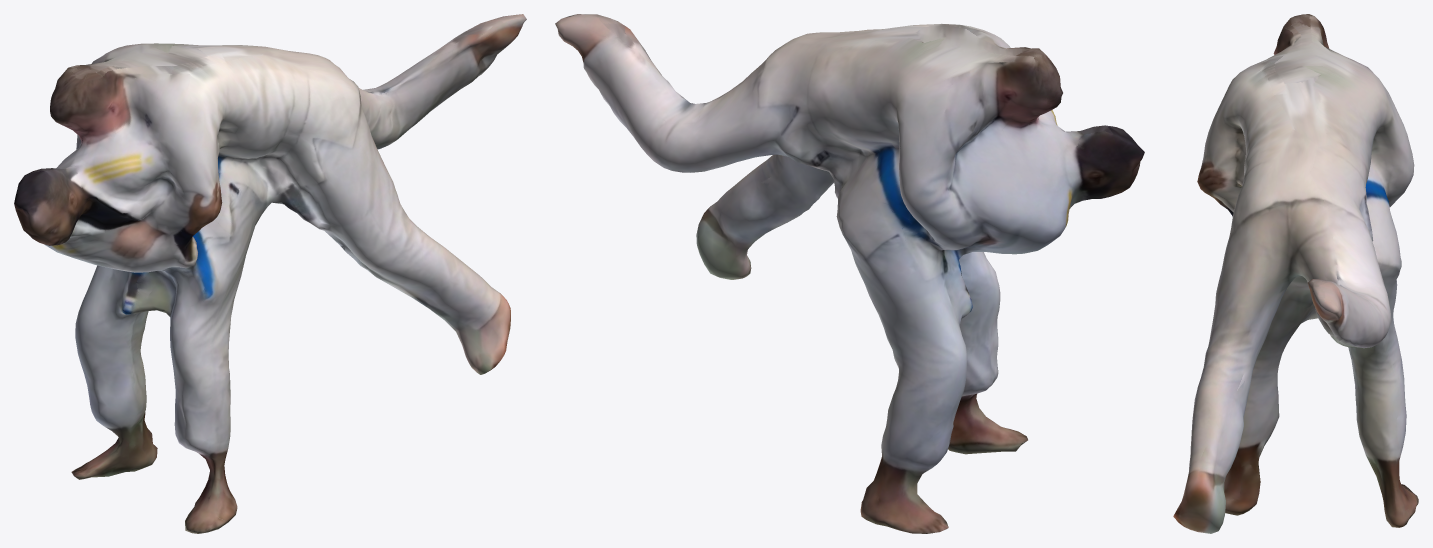
The model's file is hip-throw-4.glb.
3 renders of one model, left to right at view 1: azimuth 30°, elevation 25°; view 2: azimuth 150°, elevation 25°; view 3: azimuth 270°, elevation 25°, orthographic.
Size of the model in its own units: 1.62 by 1.3 by 0.6346.
1 material, 1 textured.
